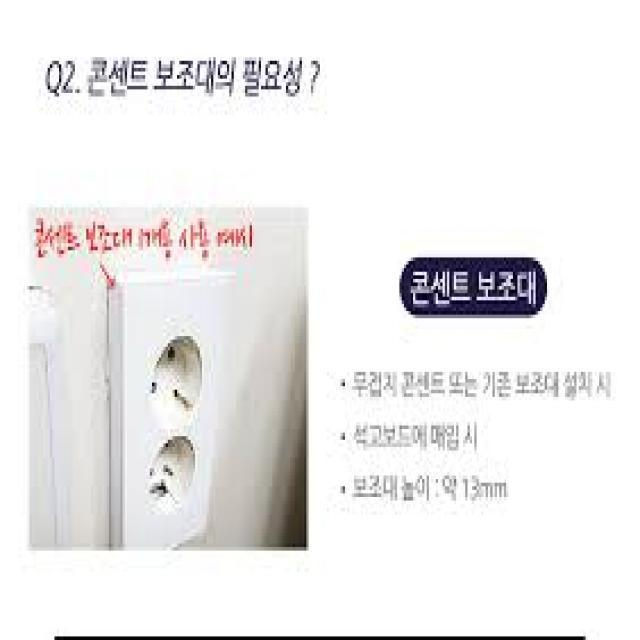typeb: (76, 238, 262, 542)
